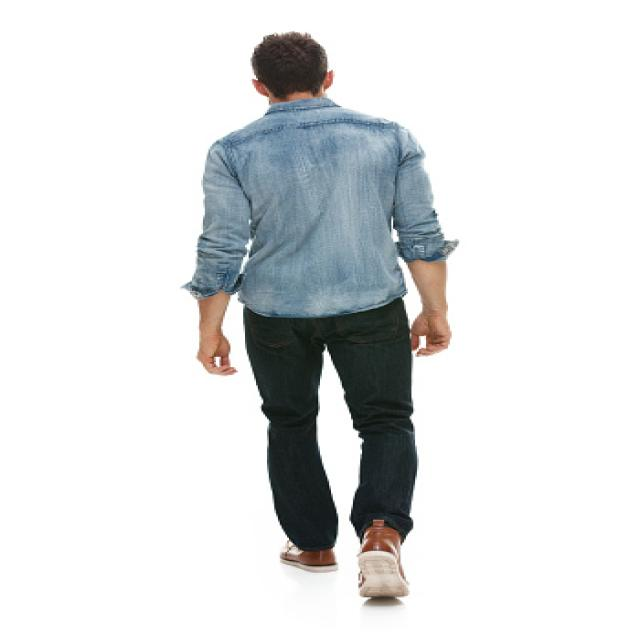Person: (180, 28, 460, 600)
